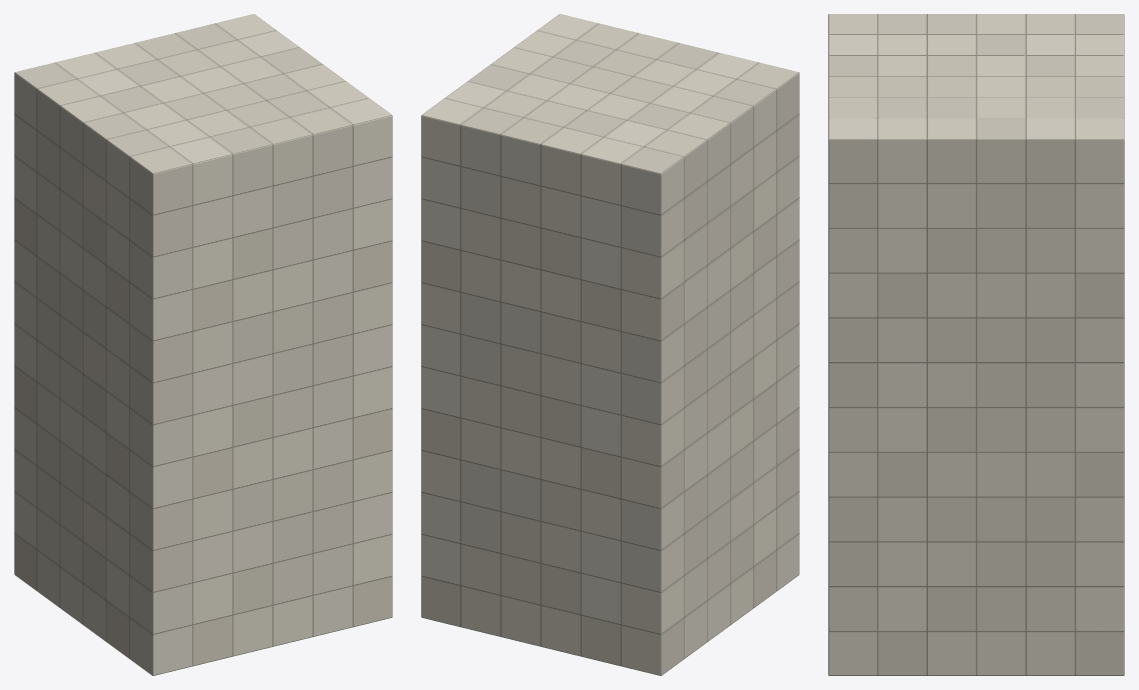
File: MOD_35_Column_Thick.glb
3 renders of one model, left to right at view 1: azimuth 30°, elevation 25°; view 2: azimuth 150°, elevation 25°; view 3: azimuth 270°, elevation 25°, orthographic. The views are drawn at different scales.
Parts seen in each view (by area): view 1: MOD_35_Column_Thick_Export; view 2: MOD_35_Column_Thick_Export; view 3: MOD_35_Column_Thick_Export.
Boxes of the visible parts, x1,y1,x2,y2 form: MOD_35_Column_Thick_Export: [14, 14, 392, 675]; MOD_35_Column_Thick_Export: [421, 14, 799, 675]; MOD_35_Column_Thick_Export: [828, 14, 1124, 675].
Bounding box in the file's own units: 1.5 × 3 × 1.5.
Materials: 1 (1 with a texture image).
